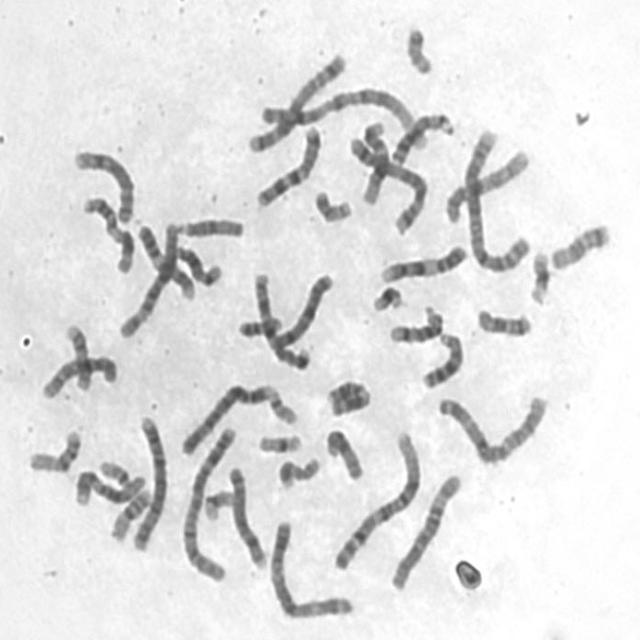A1: (328, 424, 424, 573), (244, 82, 430, 154)
A2: (457, 123, 533, 275), (176, 419, 238, 586)
A3: (264, 514, 357, 621), (432, 386, 552, 467)
B4: (176, 376, 286, 457), (127, 409, 169, 552)
B5: (243, 46, 349, 155), (346, 126, 430, 237)
C10: (440, 142, 533, 226), (36, 348, 120, 401)
C11: (76, 190, 136, 276), (325, 379, 370, 418)
C12: (70, 464, 151, 508), (356, 115, 392, 207)
C6: (385, 467, 465, 593), (114, 216, 182, 340)
C7: (249, 266, 313, 372), (251, 120, 323, 209)
C8: (68, 143, 138, 227), (223, 460, 270, 571)
C9: (132, 218, 198, 302), (375, 238, 470, 286)
D13: (387, 106, 456, 167), (416, 327, 466, 392)
D14: (384, 300, 445, 346), (170, 238, 224, 288)
D15: (321, 422, 367, 483), (170, 212, 247, 241)
E16: (23, 424, 84, 476), (106, 483, 154, 543)
E17: (59, 317, 95, 393), (274, 451, 324, 491)
E18: (546, 216, 612, 273), (472, 302, 534, 338)
F19: (198, 484, 238, 524), (253, 428, 305, 456)
F20: (309, 185, 355, 225), (233, 310, 284, 340)
G21: (524, 243, 553, 306), (368, 280, 406, 314)
G22: (94, 453, 135, 488)
X: (267, 268, 335, 354)
Y: (405, 28, 434, 76)
